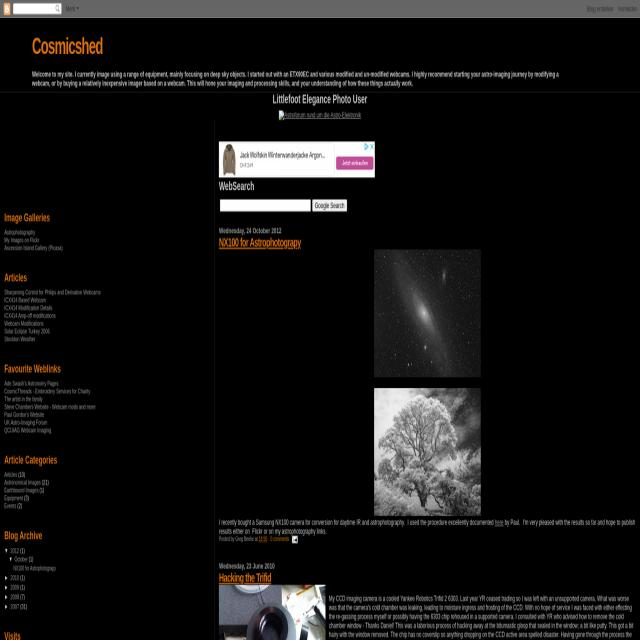button: (374, 249, 480, 377), (374, 388, 480, 516), (218, 584, 326, 640), (219, 143, 375, 177), (336, 156, 373, 170), (312, 199, 348, 211), (363, 142, 369, 151), (292, 535, 298, 543), (370, 142, 375, 150)
field: (220, 199, 311, 211)
